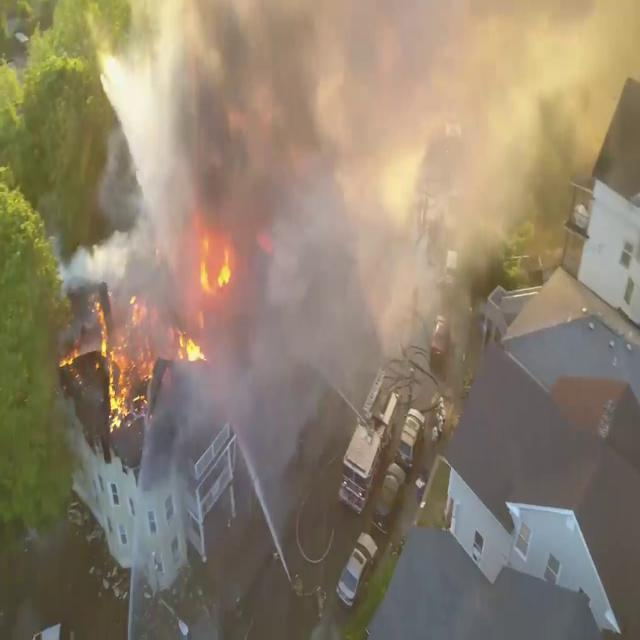Fire: (91, 282, 166, 428), (176, 221, 234, 367)
Smoke: (102, 0, 640, 409)
